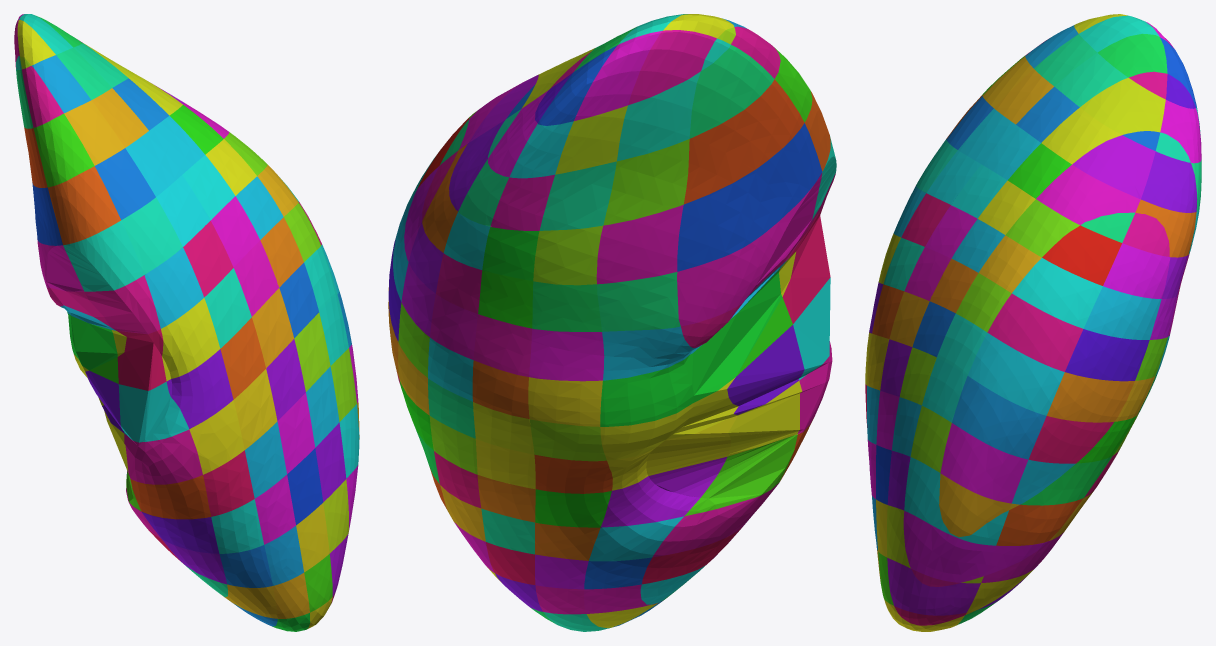
Rendered from kidney-female-left-vu-v1.0.glb.
3 views of the same model, side by side, from view 1: azimuth 30°, elevation 25°; view 2: azimuth 150°, elevation 25°; view 3: azimuth 270°, elevation 25° (orthographic). The views are drawn at different scales.
Visible parts, largest first — view 1: world; view 2: world; view 3: world.
Boxes of the visible parts, left/top/right/bottom form: world: left=14, top=14, right=359, bottom=631; world: left=388, top=14, right=836, bottom=631; world: left=865, top=14, right=1201, bottom=631.
Bounding box in the file's own units: 0.0549 × 0.1025 × 0.058.
